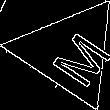M_NW: (33, 18, 106, 85)
